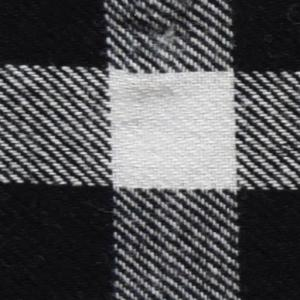Damage: (117, 1, 207, 50)
Wrinkle: (13, 82, 182, 113)
